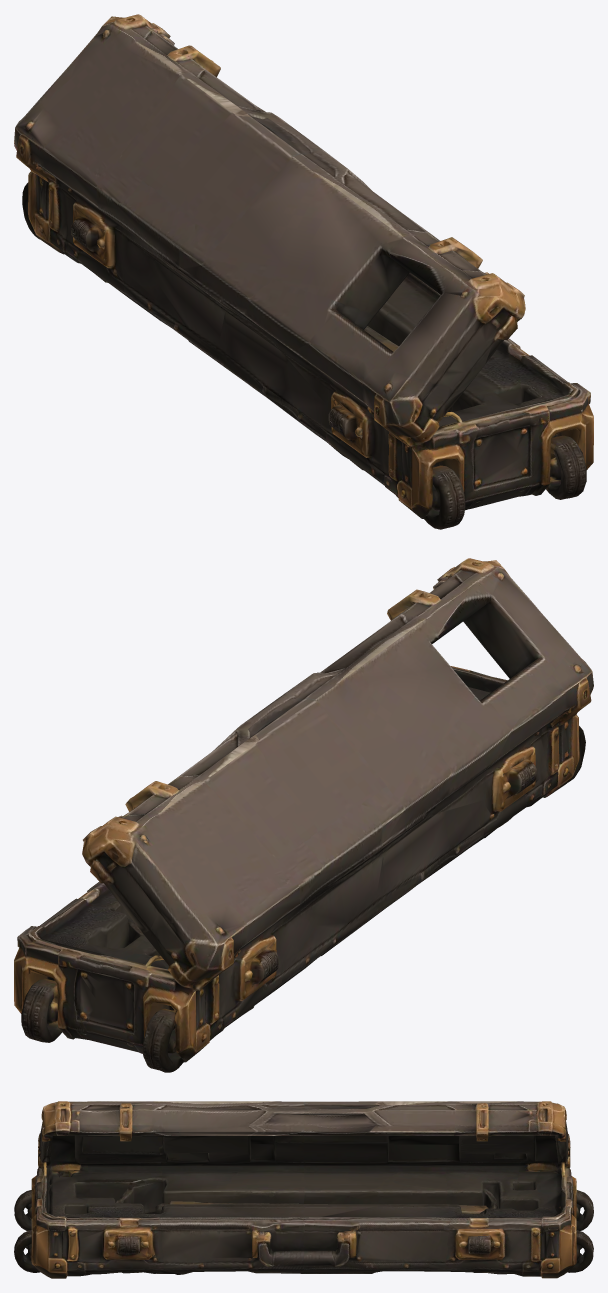
File: drift-vault-case.glb
The picture shows the model from 3 angles, top to bottom: view 1: azimuth 30°, elevation 25°; view 2: azimuth 150°, elevation 25°; view 3: azimuth 270°, elevation 25°; orthographic projection. The views are drawn at different scales.
Parts seen in each view (by area): view 1: tripo_node_bf965d6e-f274-4fa4-963d-e022ae99dd17; view 2: tripo_node_bf965d6e-f274-4fa4-963d-e022ae99dd17; view 3: tripo_node_bf965d6e-f274-4fa4-963d-e022ae99dd17.
Part boxes in pixels (x1,y1,x2,y2): tripo_node_bf965d6e-f274-4fa4-963d-e022ae99dd17: (14, 14, 593, 529); tripo_node_bf965d6e-f274-4fa4-963d-e022ae99dd17: (14, 558, 593, 1072); tripo_node_bf965d6e-f274-4fa4-963d-e022ae99dd17: (14, 1101, 593, 1278).
Size of the model in its own units: 0.2973 by 0.2821 by 0.9997.
Materials: 1 (1 with a texture image).
